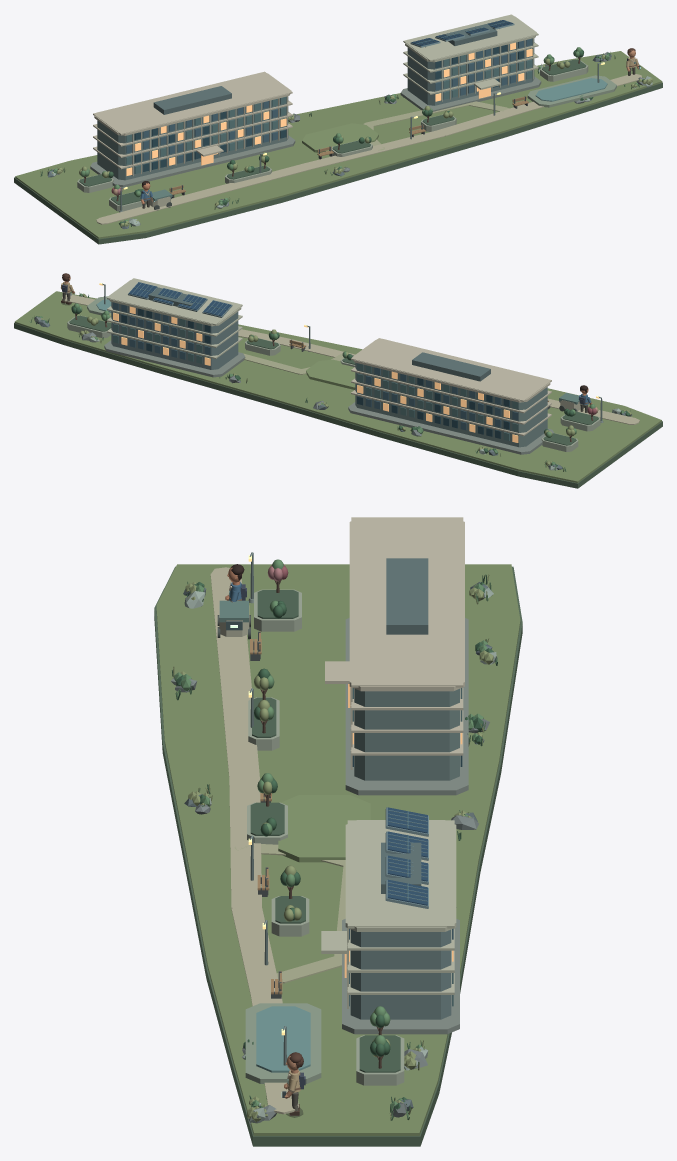
Rendered from silicon.glb.
3 views of the same model, one above another, from view 1: azimuth 30°, elevation 25°; view 2: azimuth 150°, elevation 25°; view 3: azimuth 270°, elevation 25° (orthographic). The views are drawn at different scales.
Parts seen in each view (by area): view 1: TerrainAndBuildings, CampusDeliveryRobot; view 2: TerrainAndBuildings, CampusDeliveryRobot; view 3: TerrainAndBuildings, CampusDeliveryRobot.
Boxes of the visible parts, left/top/right/bottom form: TerrainAndBuildings: left=14, top=14, right=662, bottom=244; CampusDeliveryRobot: left=146, top=189, right=172, bottom=210; TerrainAndBuildings: left=14, top=278, right=662, bottom=488; CampusDeliveryRobot: left=559, top=392, right=584, bottom=411; TerrainAndBuildings: left=154, top=517, right=522, bottom=1146; CampusDeliveryRobot: left=217, top=600, right=250, bottom=639.
Size of the model in its own units: 1.73 by 0.1935 by 0.4717.
